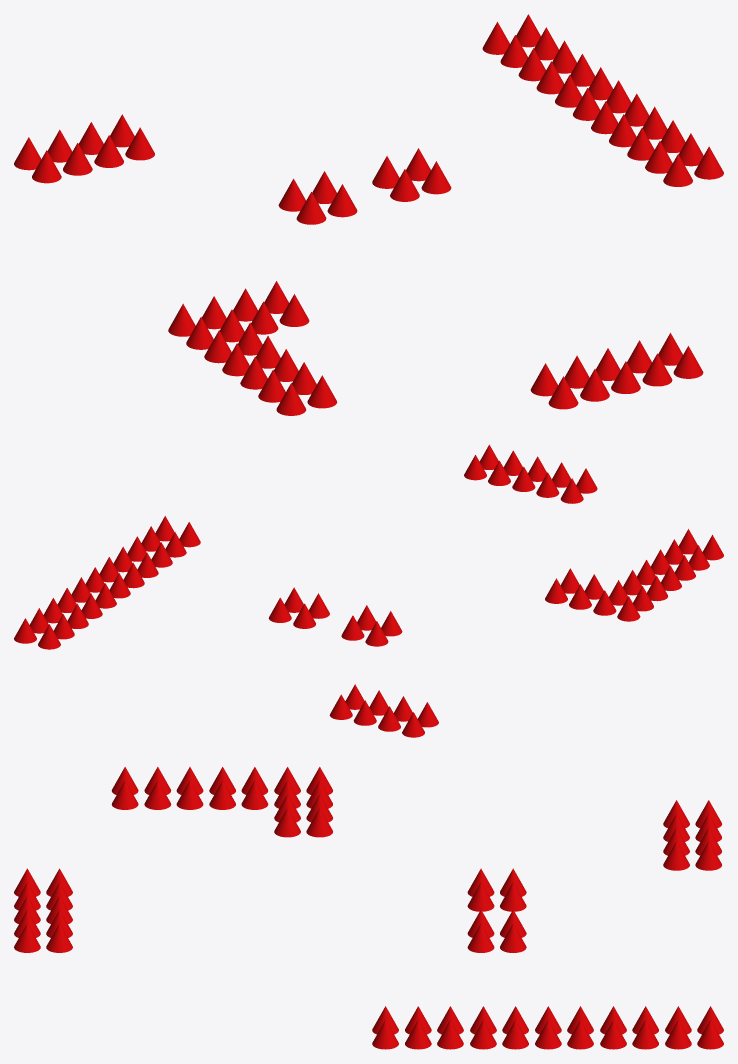
Rendered from mazespikesnya.fbx.
3 renders of one model, top to bottom at view 1: azimuth 30°, elevation 25°; view 2: azimuth 150°, elevation 25°; view 3: azimuth 270°, elevation 25°, orthographic. The views are drawn at different scales.
Parts seen in each view (by area): view 1: Cone.005, Cone, Cone.004, Cone.002, Cone.003; view 2: Cone.005, Cone, Cone.004, Cone.002, Cone.003; view 3: Cone.005, Cone, Cone.004, Cone.002, Cone.003.
Part boxes in pixels (x1,y1,x2,y2): Cone.005: [482, 14, 723, 186]; Cone: [168, 281, 337, 415]; Cone.004: [530, 333, 703, 409]; Cone.002: [278, 148, 451, 224]; Cone.003: [14, 114, 154, 183]; Cone.005: [14, 516, 200, 649]; Cone: [545, 529, 723, 621]; Cone.004: [464, 444, 597, 503]; Cone.002: [268, 587, 402, 646]; Cone.003: [329, 684, 438, 737]; Cone.005: [372, 1006, 723, 1049]; Cone: [111, 767, 332, 837]; Cone.004: [14, 868, 72, 952]; Cone.002: [467, 868, 526, 952]; Cone.003: [663, 800, 721, 870].
Size of the model in its own units: 1448 by 79.56 by 1683.
